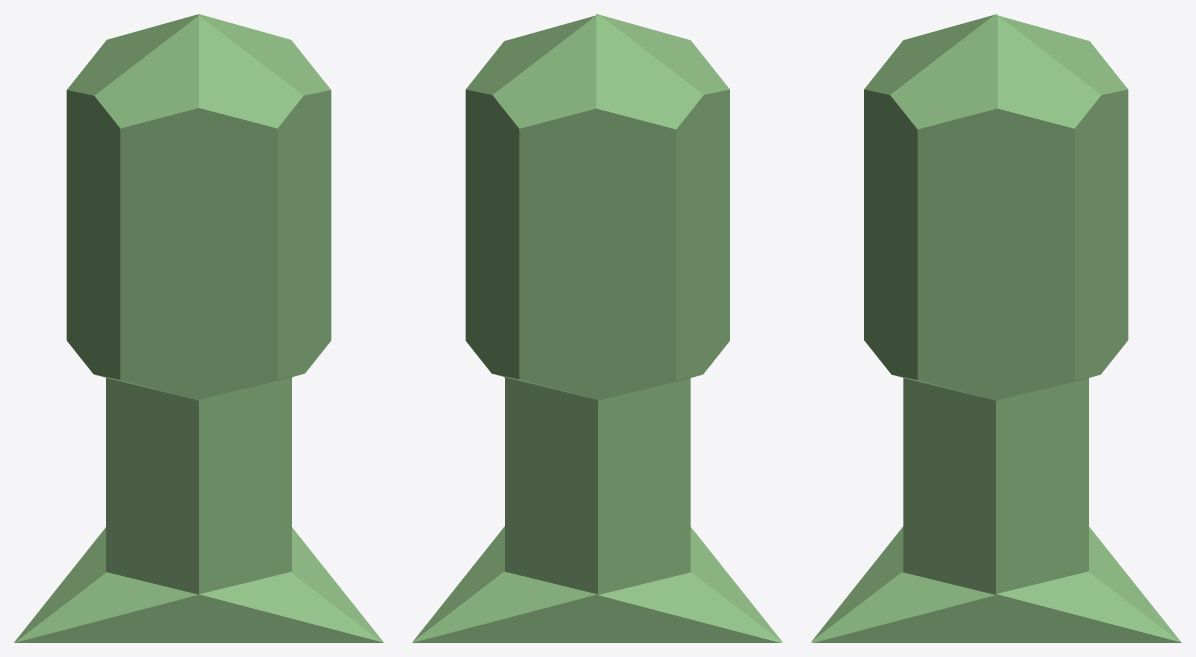
Rendered from Fate Game Piece V4 Olivine.glb.
The picture shows the model from 3 angles, left to right: view 1: azimuth 30°, elevation 25°; view 2: azimuth 150°, elevation 25°; view 3: azimuth 270°, elevation 25°; orthographic projection.
Visible parts, largest first — view 1: Solid1; view 2: Solid1; view 3: Solid1.
Boxes of the visible parts, x1,y1,x2,y2 form: Solid1: (14,14,383,642); Solid1: (412,14,782,642); Solid1: (811,14,1181,642).
Bounding box in the file's own units: 0.019 × 0.0381 × 0.022.
